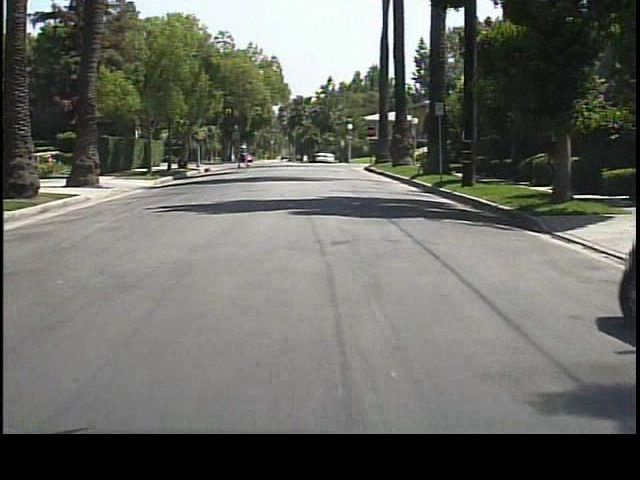person: (236, 139, 251, 171)
